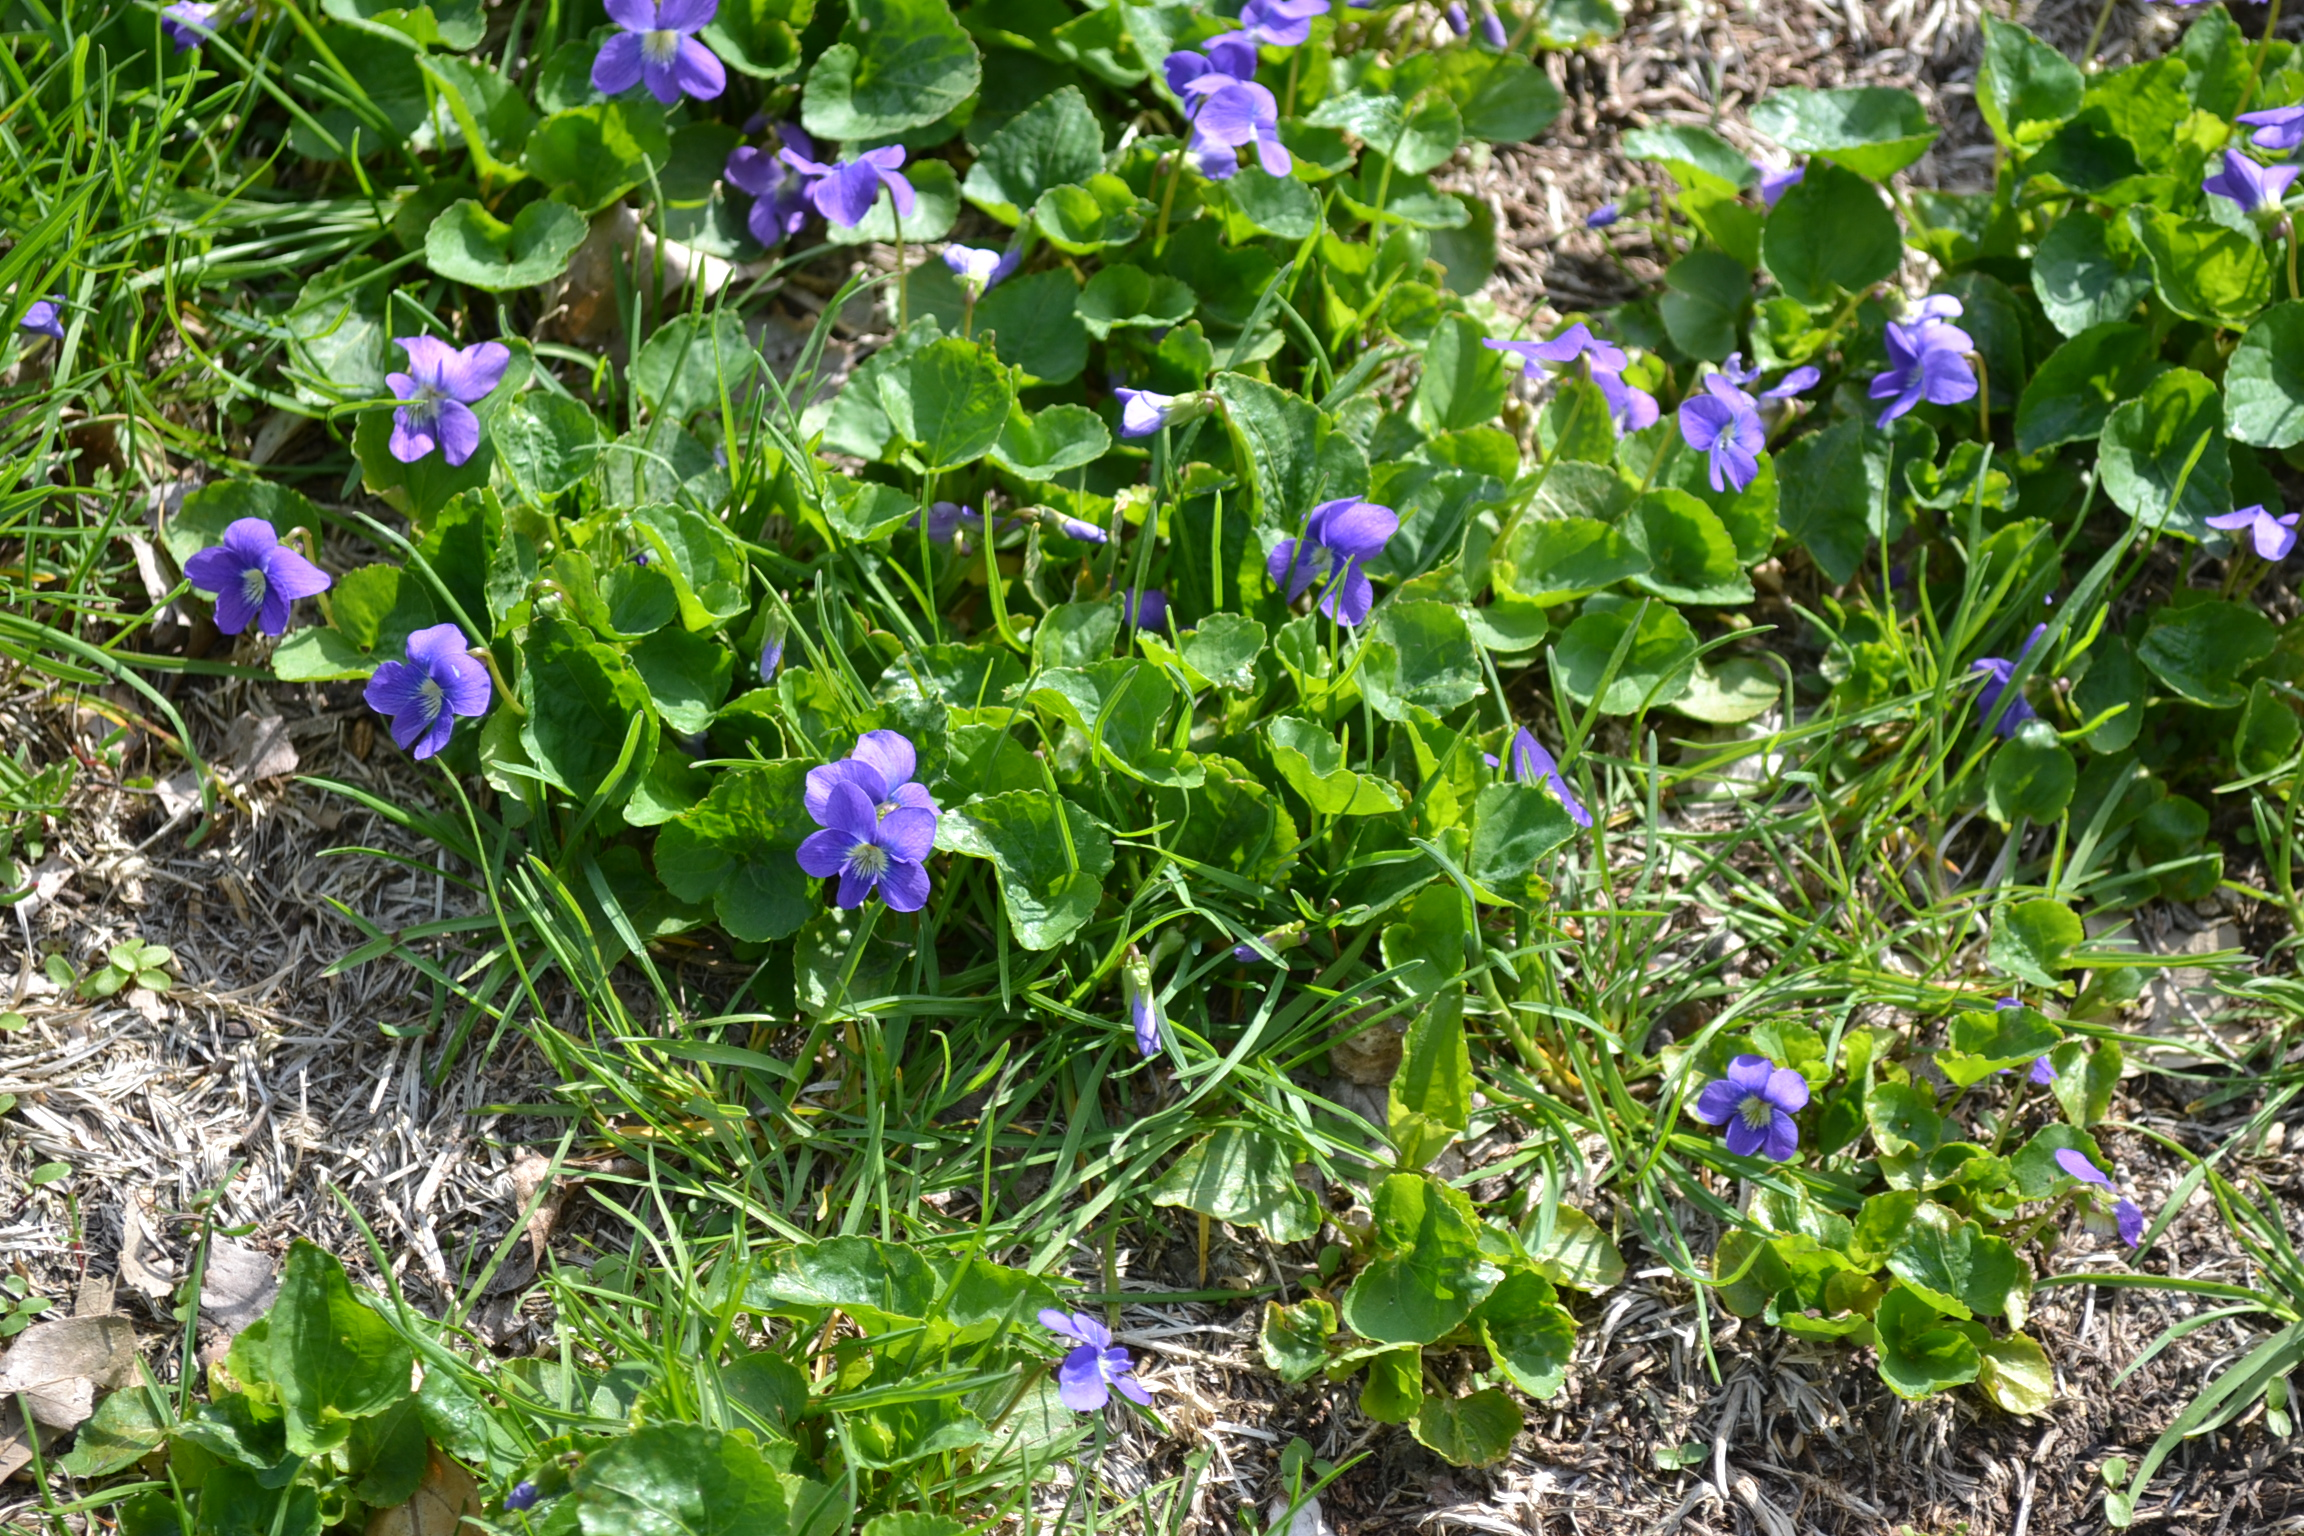violet: (771, 732, 950, 909), (747, 118, 919, 276), (177, 525, 353, 655), (370, 326, 519, 477), (358, 631, 513, 746), (1510, 312, 1642, 446), (1023, 1305, 1162, 1425), (1865, 312, 1983, 453), (1671, 374, 1788, 513), (1692, 1046, 1819, 1173), (1282, 485, 1394, 626), (1157, 67, 1299, 170)
